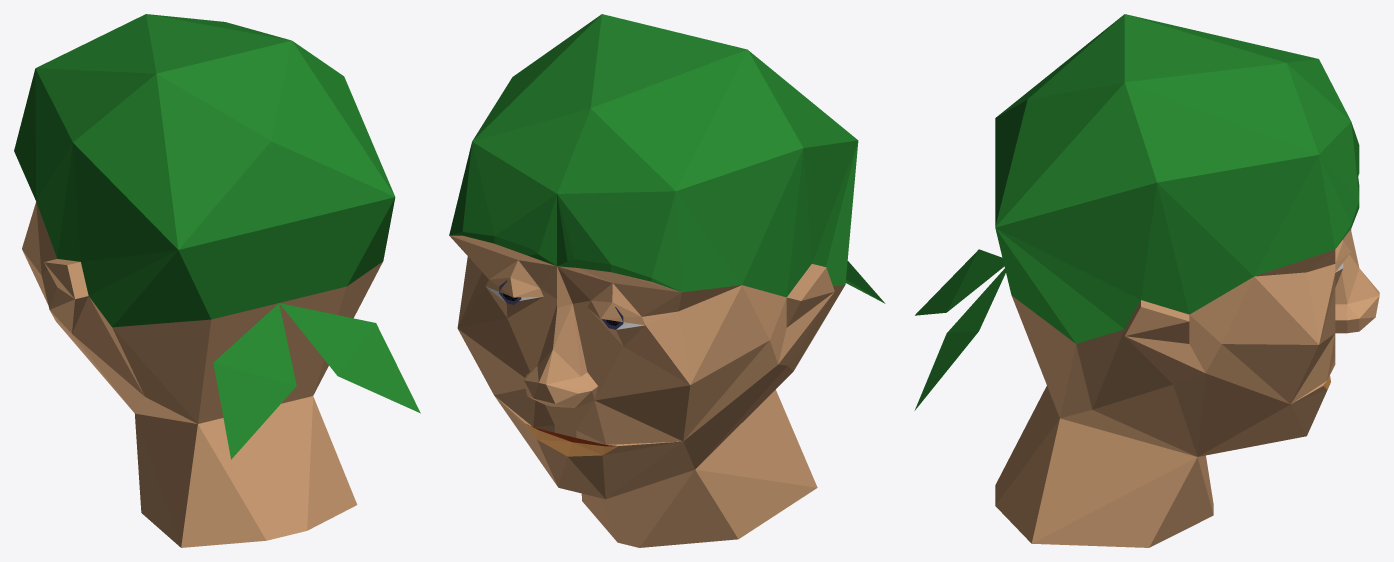
File: npc_chat_pirate_4_0.obj
3 renders of one model, left to right at view 1: azimuth 30°, elevation 25°; view 2: azimuth 150°, elevation 25°; view 3: azimuth 270°, elevation 25°, orthographic. The views are drawn at different scales.
Bounding box in the file's own units: 0.6875 × 0.9844 × 0.8984.
